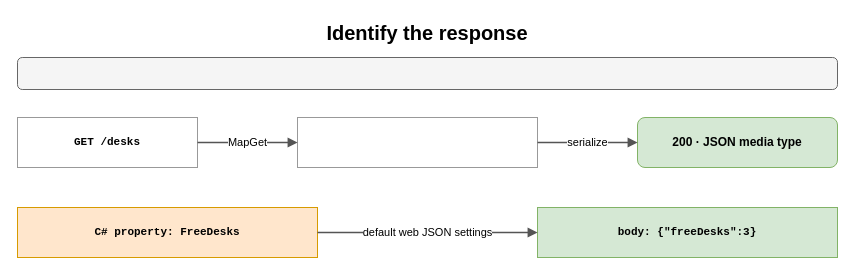
Some shapes in this 855 by 275 pixel diagram are drawn without their labels. Each missing label, with the box of its shape:
() => new { FreeDesks = 3 }: (296, 116, 538, 168)
Predict the status, media type, and JSON property names for GET /desks: (16, 56, 838, 90)
